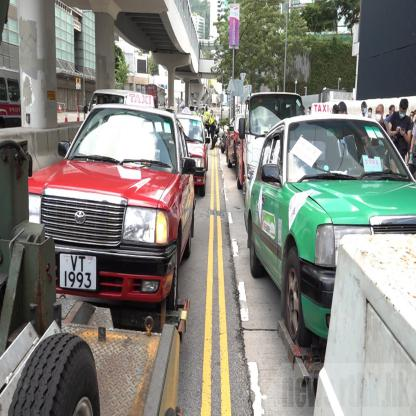taxi: (245, 85, 416, 346), (23, 88, 202, 318)
